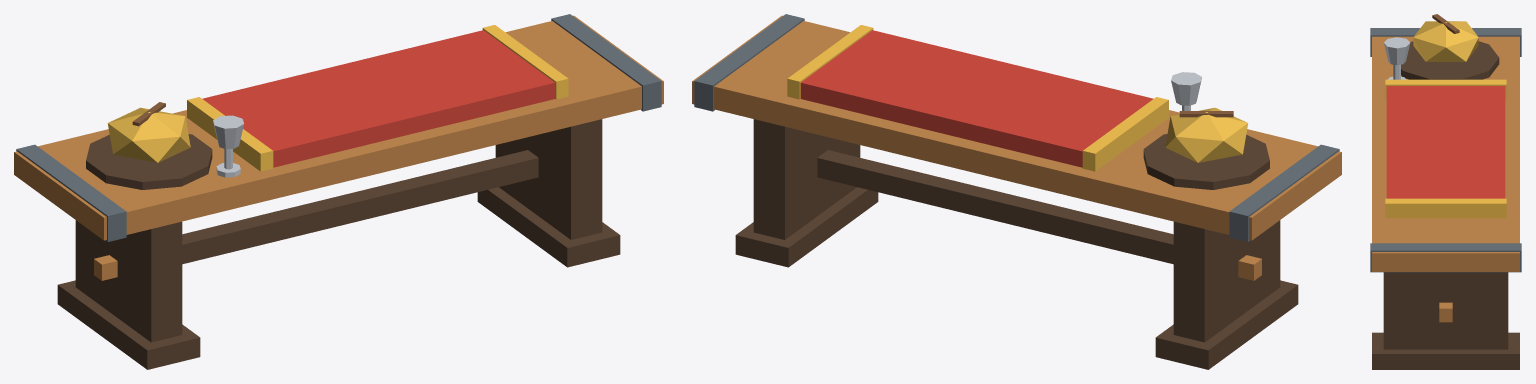
Rendered from CatCafe_Decor_FeastBench.glb.
3 renders of one model, left to right at view 1: azimuth 30°, elevation 25°; view 2: azimuth 150°, elevation 25°; view 3: azimuth 270°, elevation 25°, orthographic. The views are drawn at different scales.
Visible parts, largest first — view 1: CatCafe_Decor_FeastBench; view 2: CatCafe_Decor_FeastBench; view 3: CatCafe_Decor_FeastBench.
Part boxes in pixels (box(x1,y1,x2,y2)): CatCafe_Decor_FeastBench: box(14, 14, 663, 369); CatCafe_Decor_FeastBench: box(692, 14, 1341, 369); CatCafe_Decor_FeastBench: box(1370, 14, 1521, 369).
Bounding box in the file's own units: 3.6 × 1.31 × 1.02.
Materials: 1 (1 with a texture image).
